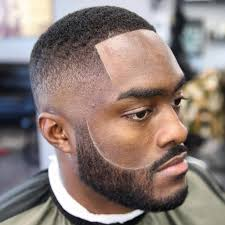b.y: (78, 134, 150, 209)
